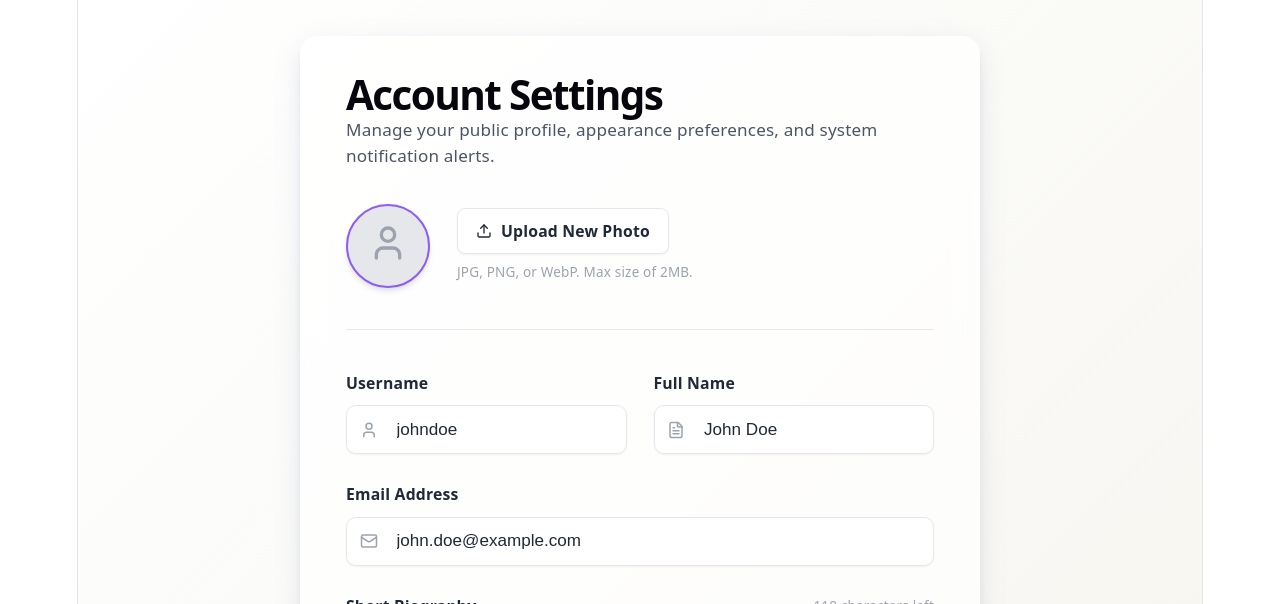
Test: Profile Settings Form - Round Two › validates incorrect username formats
Clear and enter invalid username
Replace the text in the field labelled "Username" with "1invalid" at (486, 430), box [346,406,626,454]
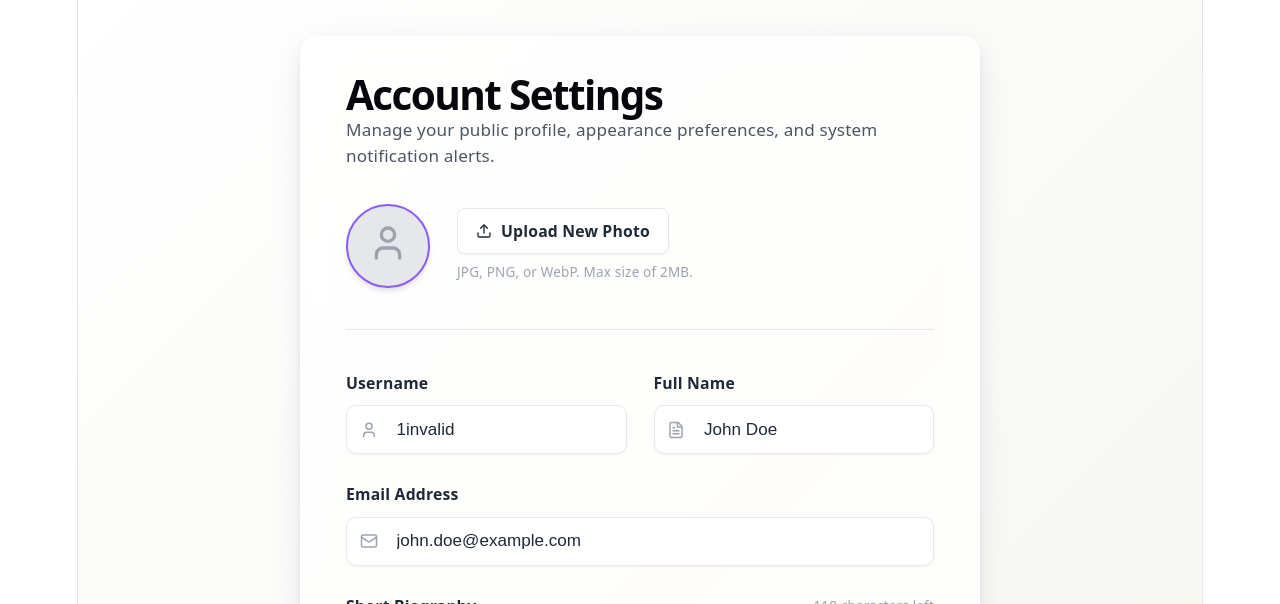
Leave the field labelled "Username", box [346,406,626,454]
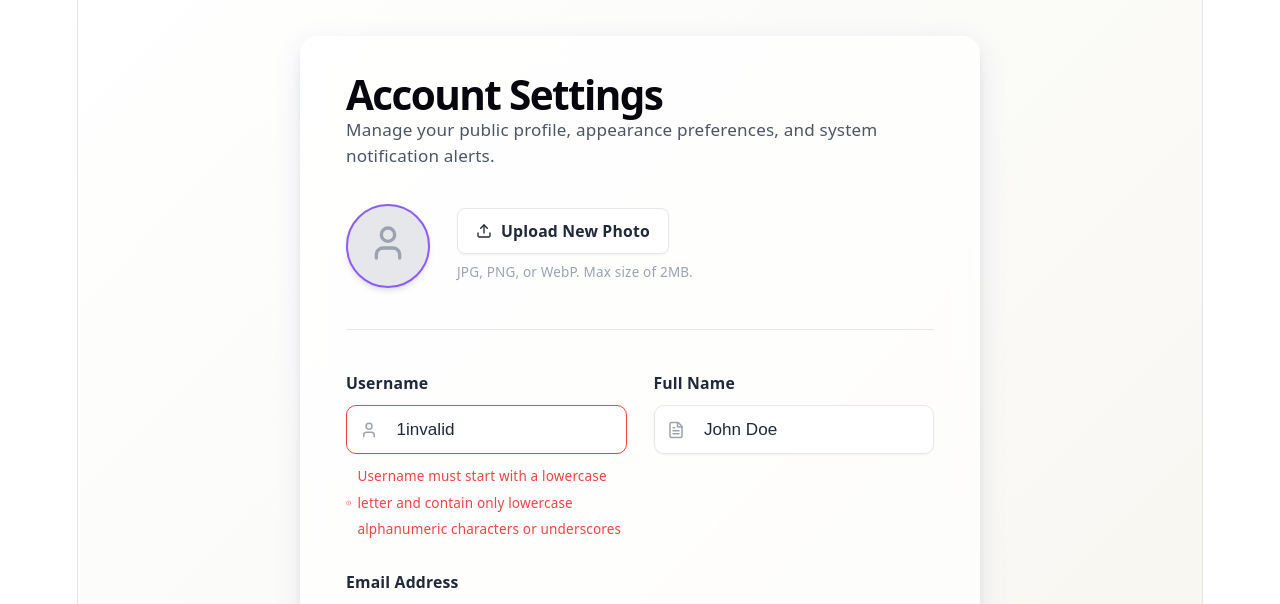
Result: the text "Username must start with a lowercase letter" is shown at [357,468,621,538]
Too short
Replace the text in the field labelled "Username" with "ab" at (486, 430), box [346,406,626,454]
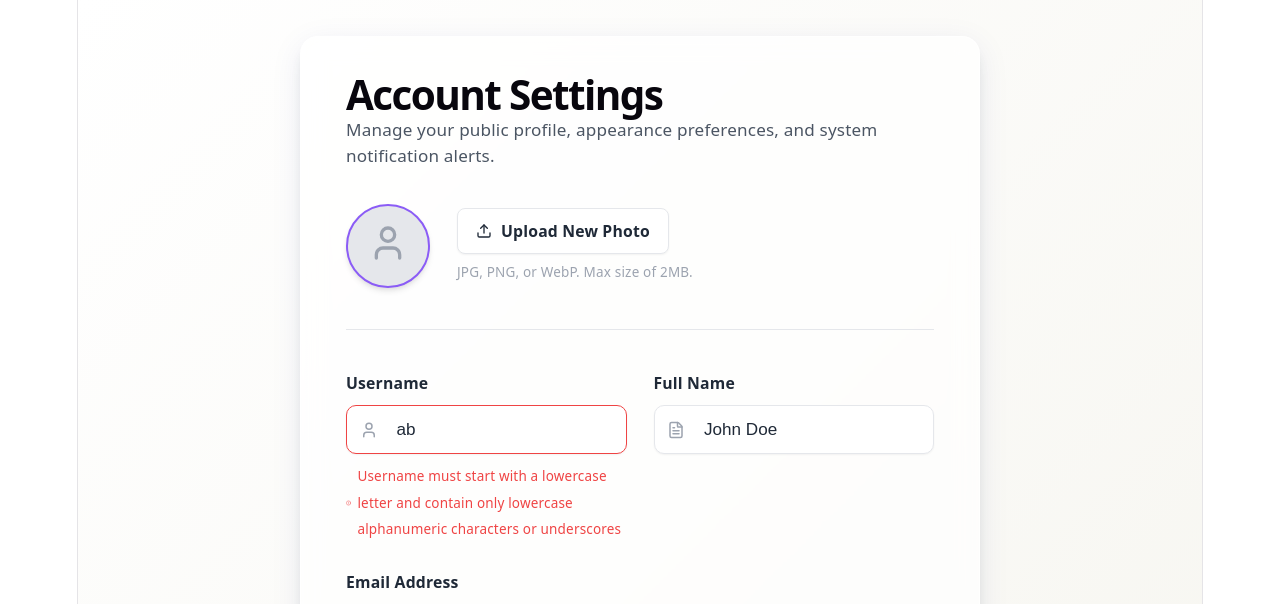
Leave the field labelled "Username", box [346,406,626,454]
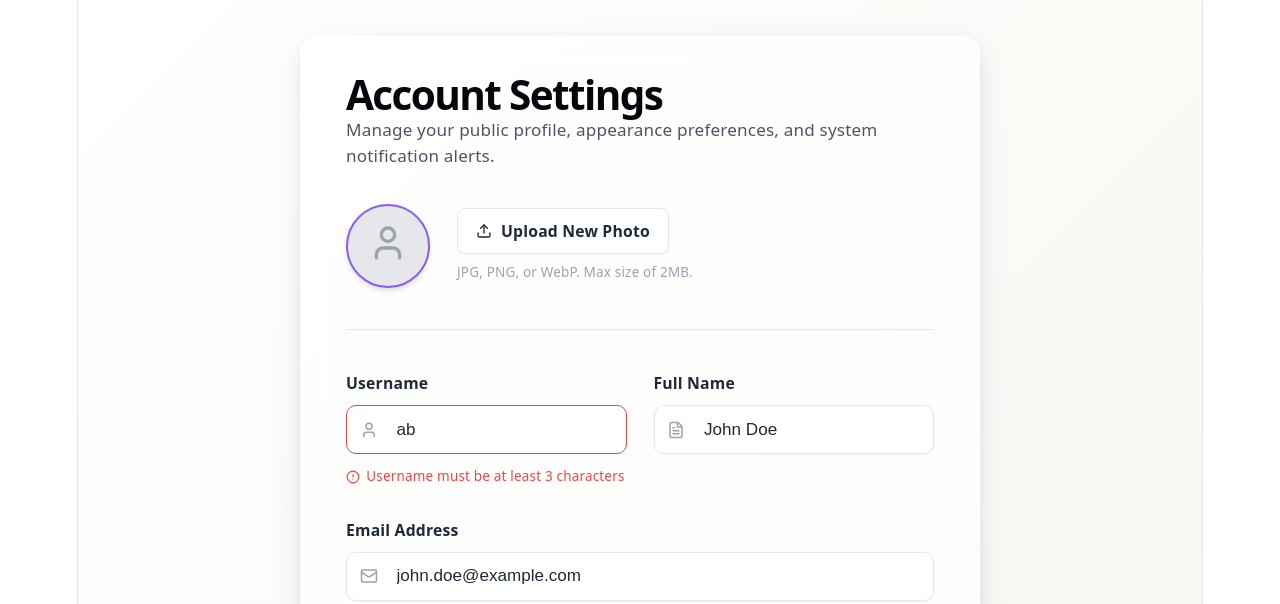
Result: the text "Username must be at least 3 characters" is shown at [346,464,626,490]
